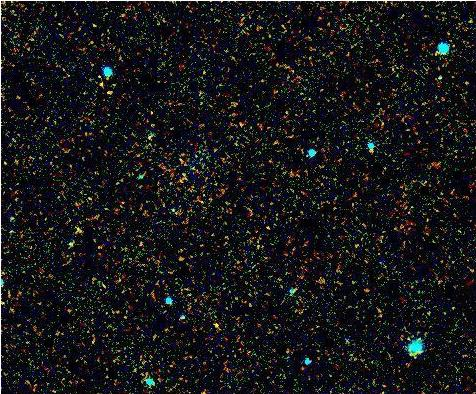star: (202, 308, 232, 338)
